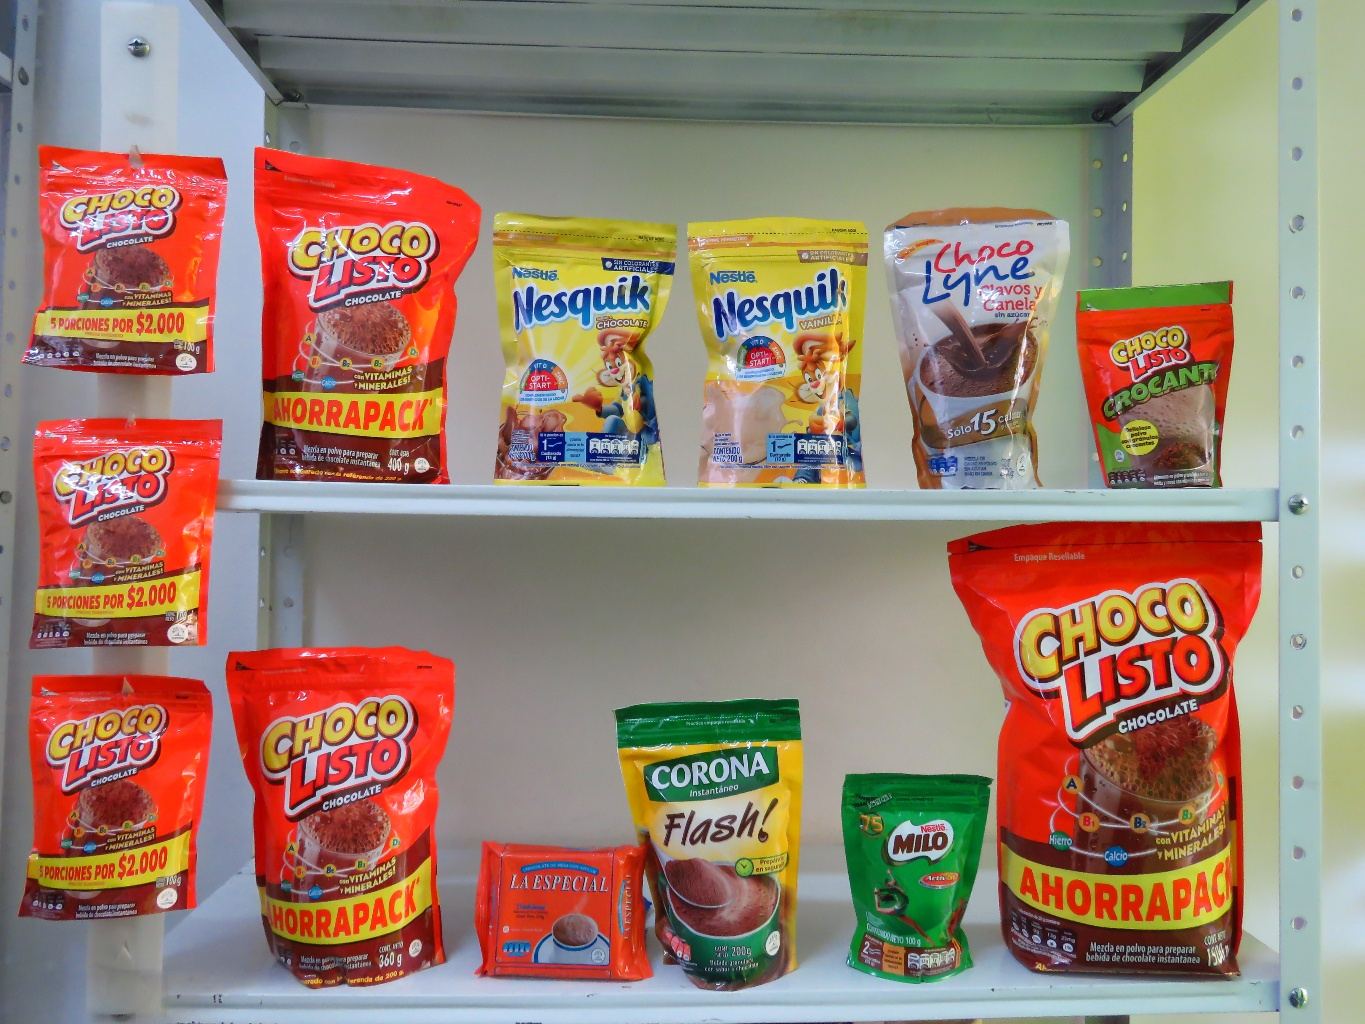COL0170102DYP10000: (1073, 268, 1236, 485)
COL0170103DYP1,500: (954, 523, 1272, 979)
COL0170103DYP10000: (22, 663, 218, 920)
COL0170103DYP36000: (214, 628, 456, 993)
COL0170103DYP40000: (234, 148, 474, 485)
COL0170203DYP10000: (825, 762, 993, 981)
COL0170303DYP20000: (477, 205, 685, 483)
COL0170306DYP20000: (670, 203, 883, 485)
